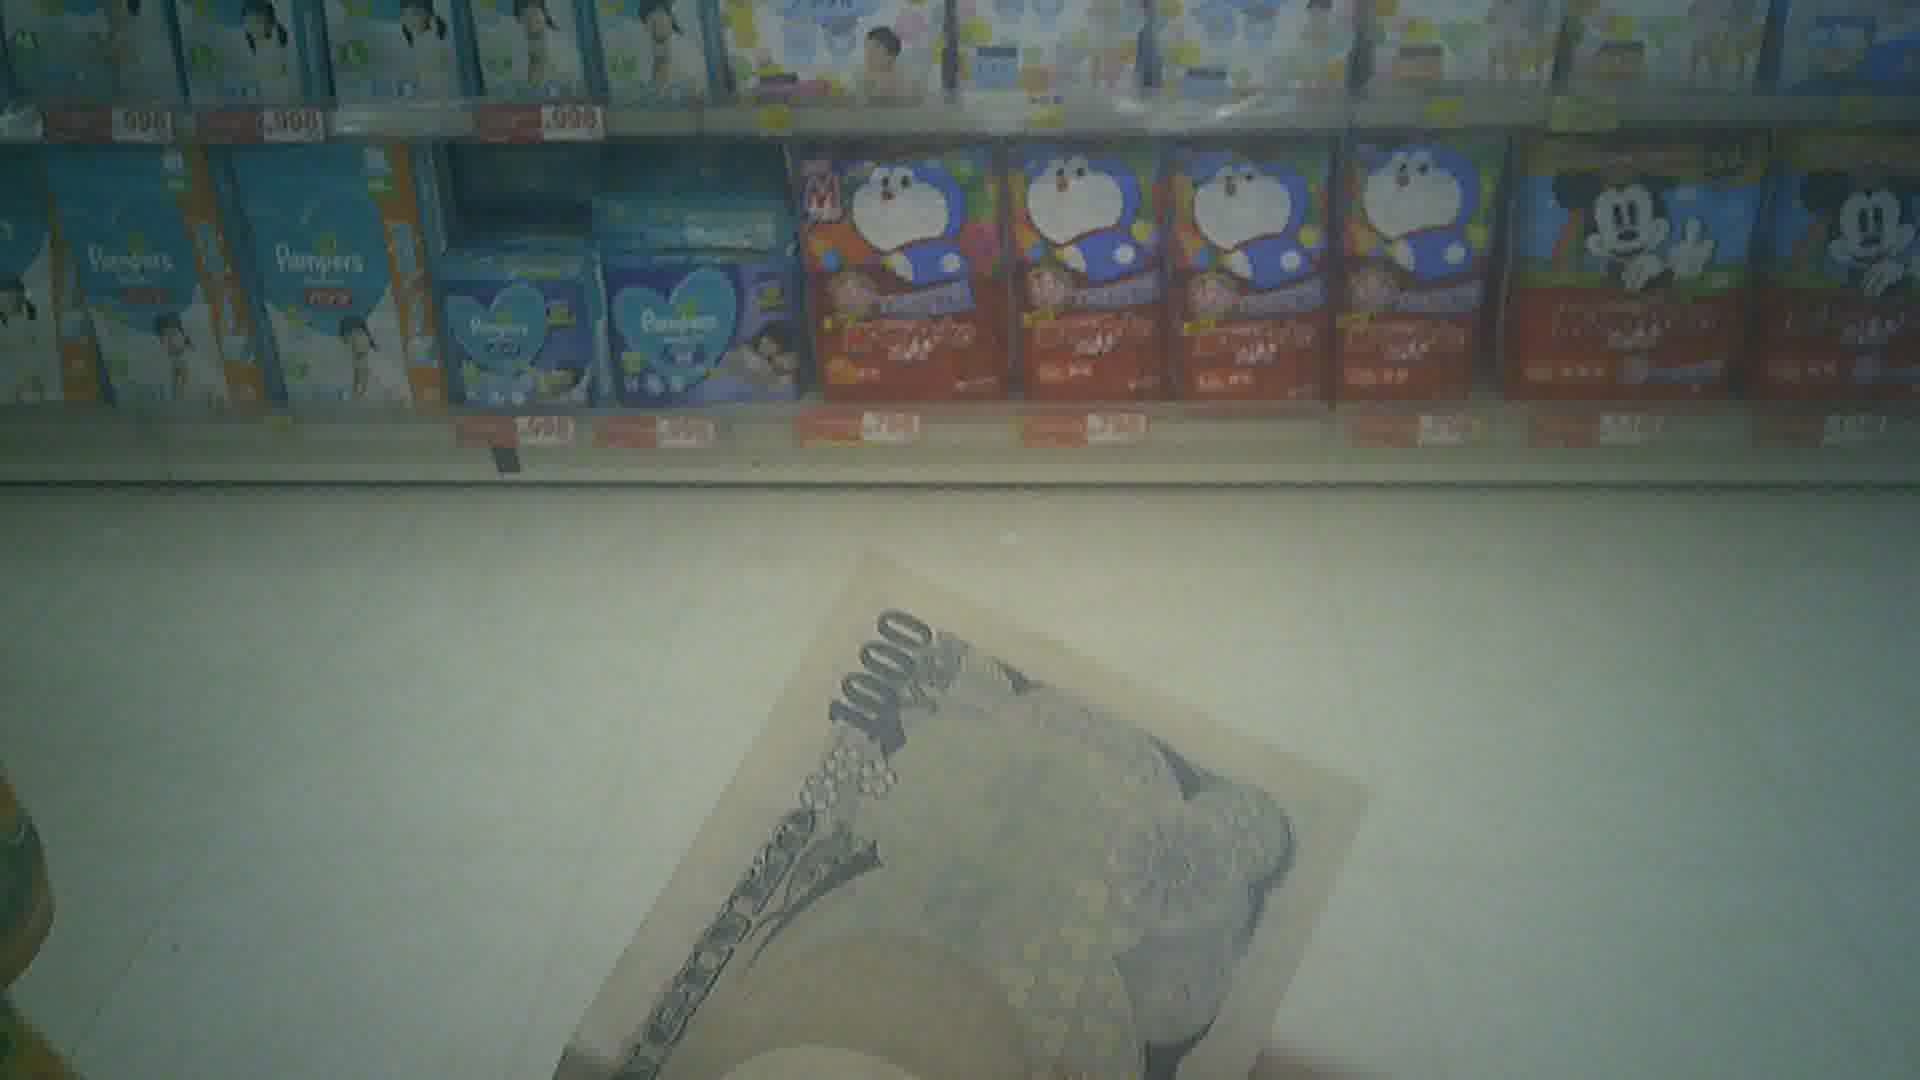1,000 Yen: (605, 529, 1329, 1076)
